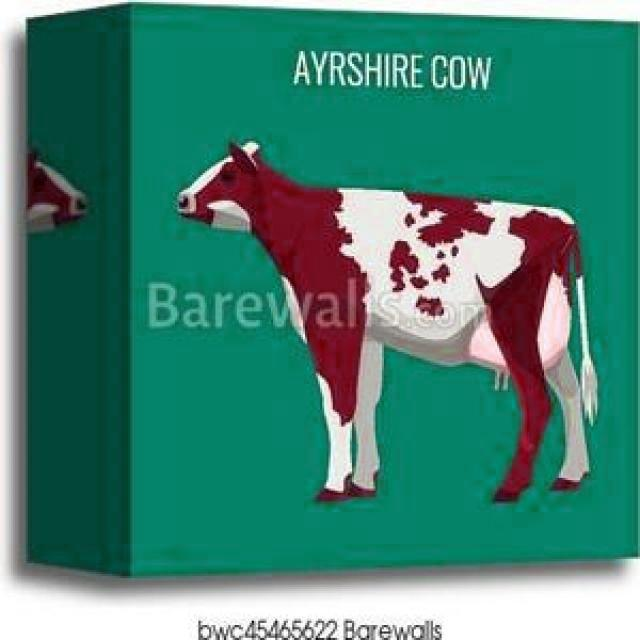cow: (178, 142, 595, 501)
